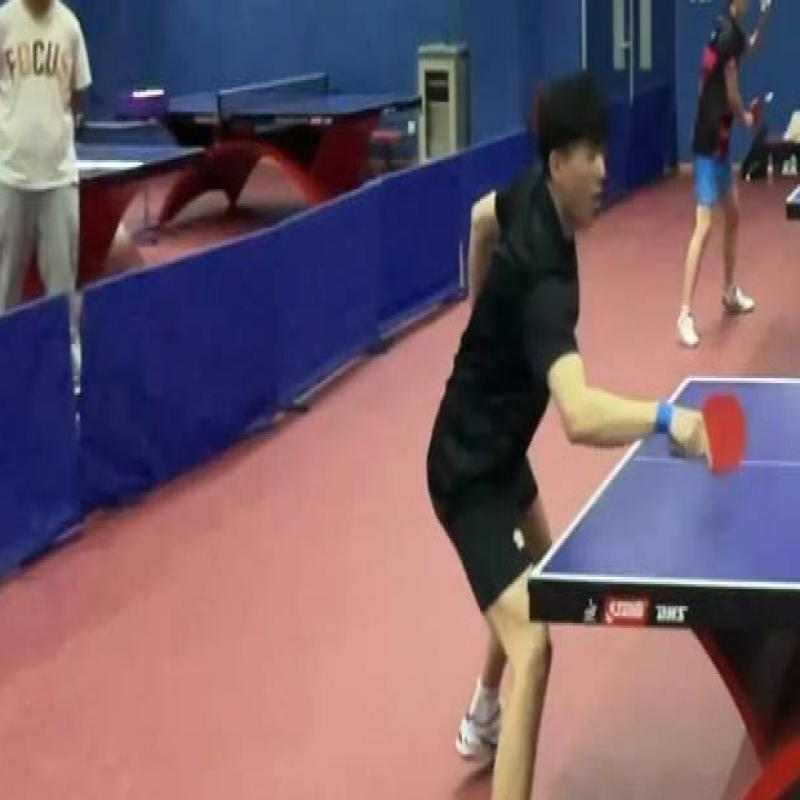bats: (688, 383, 752, 482)
